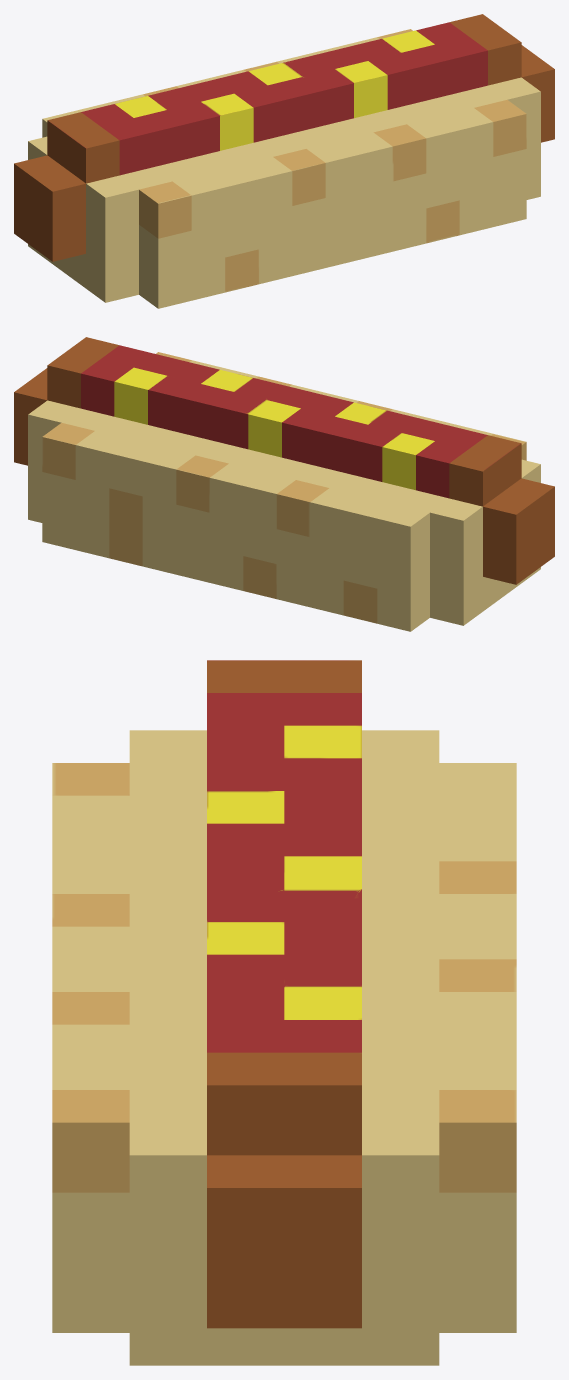
File: hotdog.glb
3 views of the same model, one above another, from view 1: azimuth 30°, elevation 25°; view 2: azimuth 150°, elevation 25°; view 3: azimuth 270°, elevation 25° (orthographic). The views are drawn at different scales.
Visible parts, largest first — view 1: item; view 2: item; view 3: item.
Part boxes in pixels (<box>): item: <box>14,14,554,308</box>; item: <box>14,337,554,631</box>; item: <box>52,660,516,1365</box>.
Size of the model in its own units: 3.87 by 1.03 by 1.55.
1 material, 1 textured.
